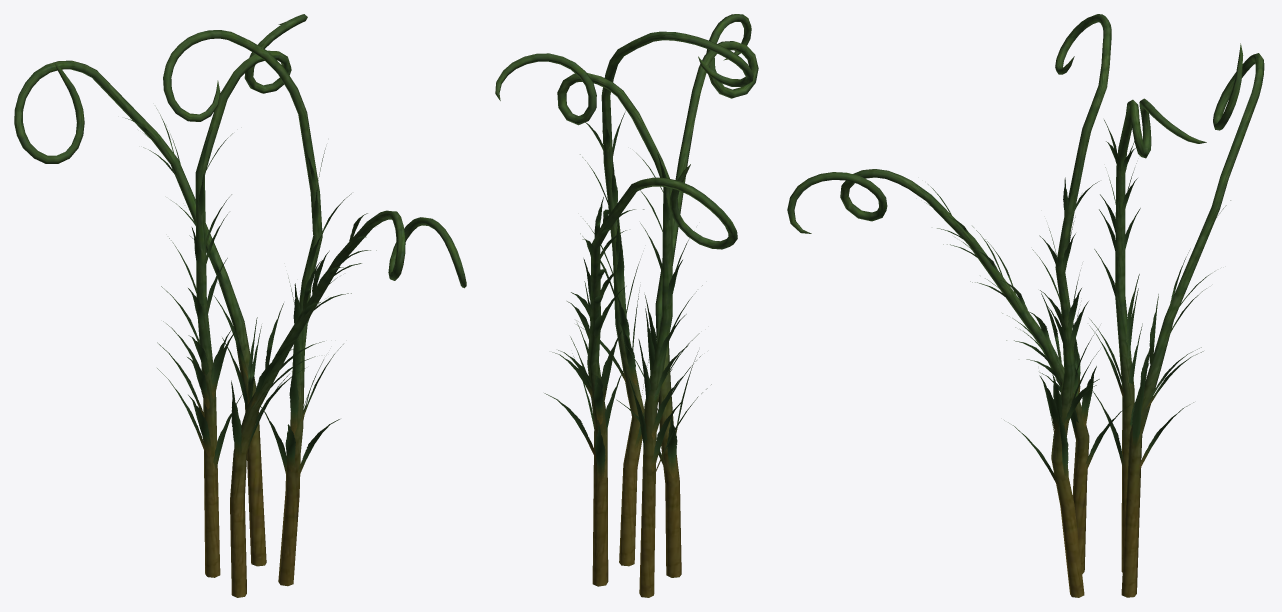
The model's file is Plant - Alien Plant 07-CxU3v0pz.glb.
3 renders of one model, left to right at view 1: azimuth 30°, elevation 25°; view 2: azimuth 150°, elevation 25°; view 3: azimuth 270°, elevation 25°, orthographic. The views are drawn at different scales.
Parts seen in each view (by area): view 1: Plant7_1_L0(Clone); view 2: Plant7_1_L0(Clone); view 3: Plant7_1_L0(Clone).
Part boxes in pixels (left/top/right/bottom): Plant7_1_L0(Clone): left=14, top=14, right=466, bottom=597; Plant7_1_L0(Clone): left=495, top=14, right=758, bottom=597; Plant7_1_L0(Clone): left=787, top=14, right=1264, bottom=597.
Bounding box in the file's own units: 1.33 × 2.71 × 2.19.
2 materials, 2 textured.
